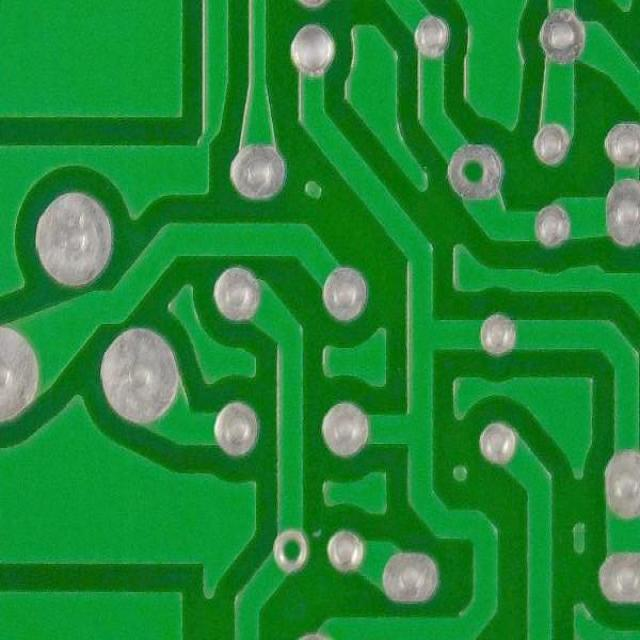missing hole: (441, 136, 510, 201), (268, 525, 316, 579)
